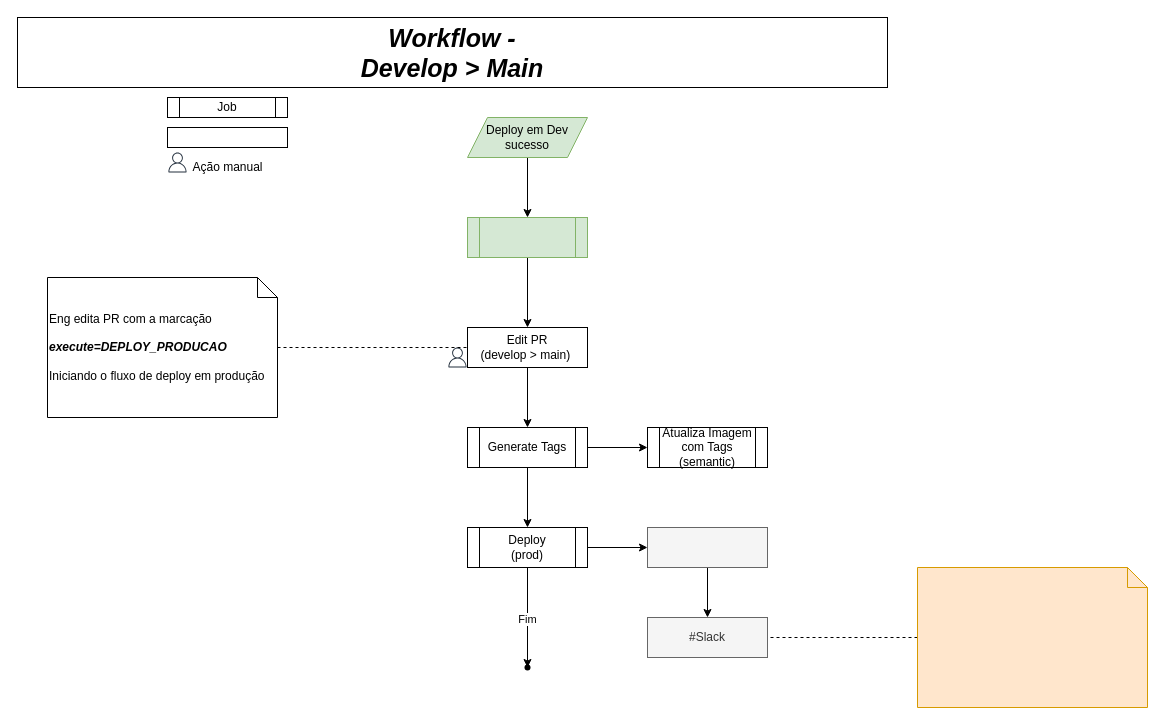
Some shapes in this 1165 by 725 pixel diagram are drawn without their labels. Each missing label, with the centre of its shape:
"- Etapa não implementada (no momento) por se tratar de complemento" goes at point 1032,637.
"Criar PR automático para main" goes at point 527,237.
"Notifica deploy (ambiente)" goes at point 707,547.
"Step" goes at point 227,137.
